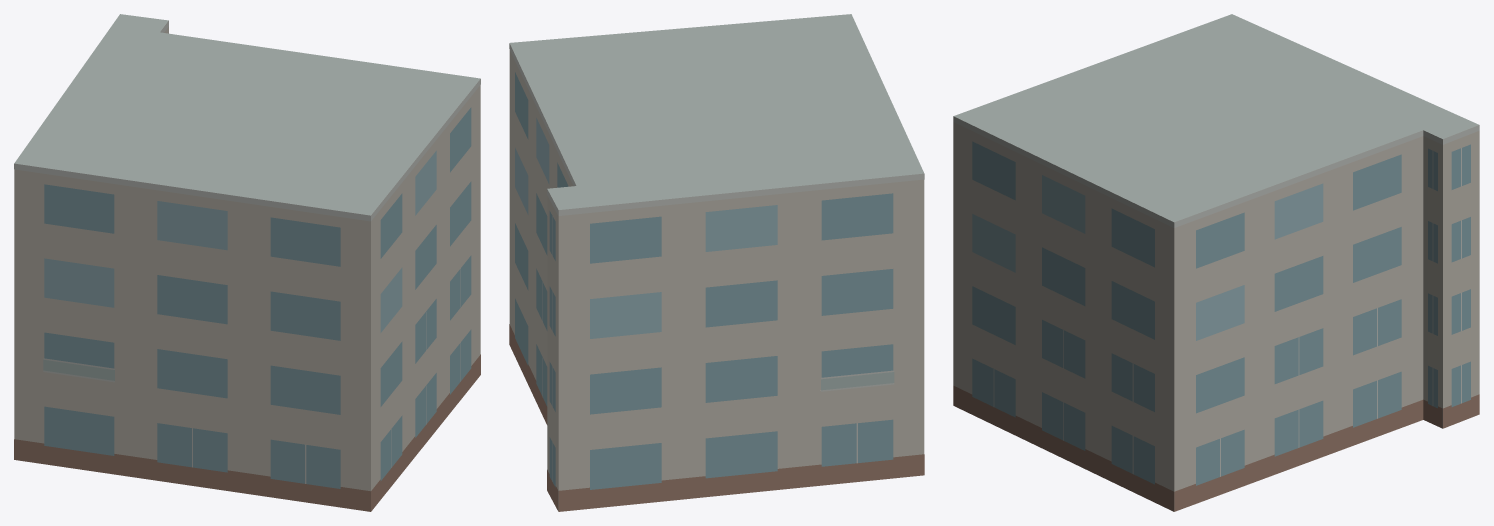
File: survey-upis-32890248.glb
The picture shows the model from 3 angles, left to right: view 1: azimuth 30°, elevation 25°; view 2: azimuth 150°, elevation 25°; view 3: azimuth 270°, elevation 25°; orthographic projection. The views are drawn at different scales.
Parts seen in each view (by area): view 1: survey-upis-32890248.tmp; view 2: survey-upis-32890248.tmp; view 3: survey-upis-32890248.tmp.
Boxes of the visible parts, <box> form: survey-upis-32890248.tmp: <box>14,14,480,511</box>; survey-upis-32890248.tmp: <box>509,14,924,511</box>; survey-upis-32890248.tmp: <box>953,14,1479,511</box>.
Size of the model in its own units: 19 by 12.3 by 20.27.
